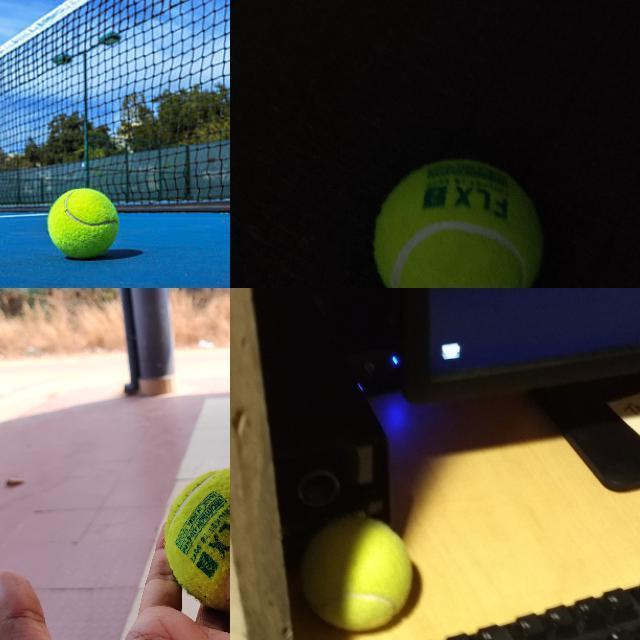tennis-ball: (372, 159, 544, 287), (300, 515, 414, 633), (164, 467, 229, 611), (47, 187, 119, 257)
